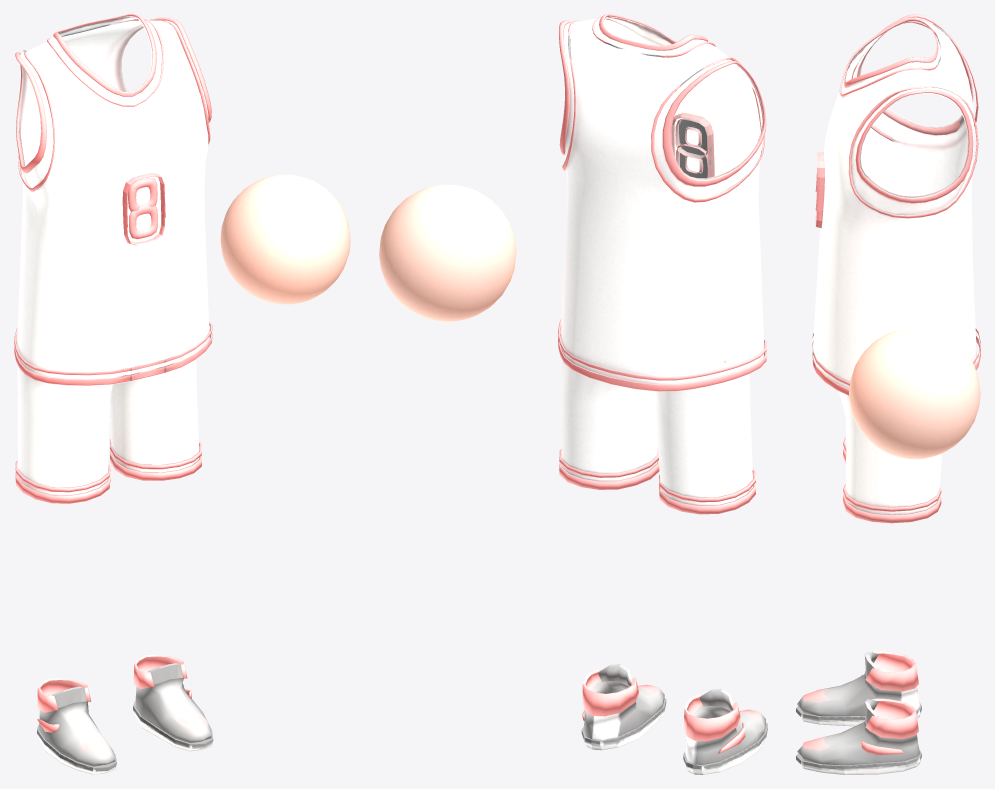
3 views of the same model, side by side, from view 1: azimuth 30°, elevation 25°; view 2: azimuth 150°, elevation 25°; view 3: azimuth 270°, elevation 25° (orthographic). The views are drawn at different scales.
Visible parts, largest first — view 1: suit-red-bottom; view 2: suit-red-bottom; view 3: suit-red-bottom.
Boxes of the visible parts, <box> form: suit-red-bottom: <box>14,14,350,774</box>; suit-red-bottom: <box>379,14,767,774</box>; suit-red-bottom: <box>796,14,980,774</box>.
Size of the model in its own units: 0.7444 by 1.48 by 0.3524.
